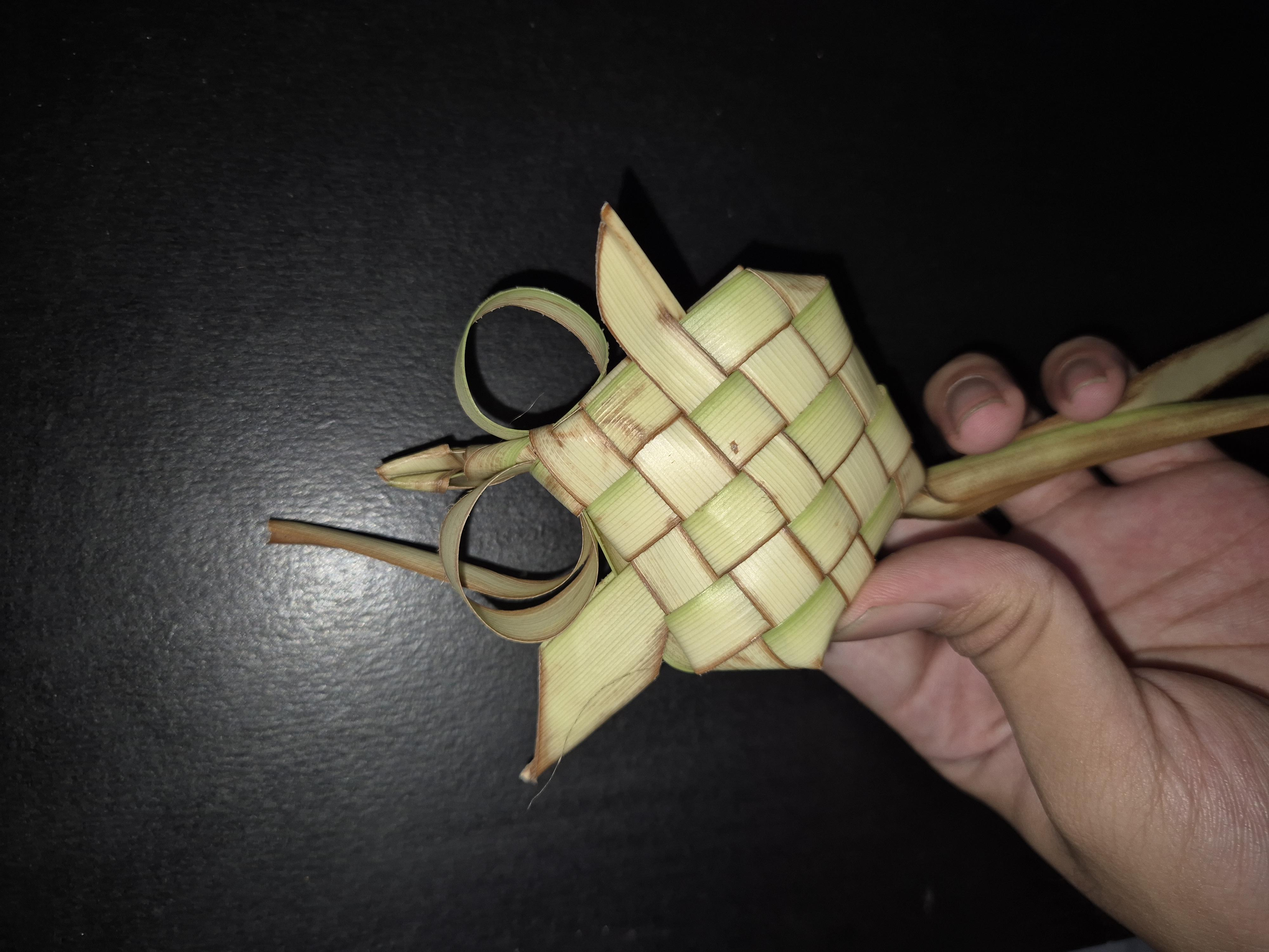Tipat Dampulan: (228, 203, 992, 694)
